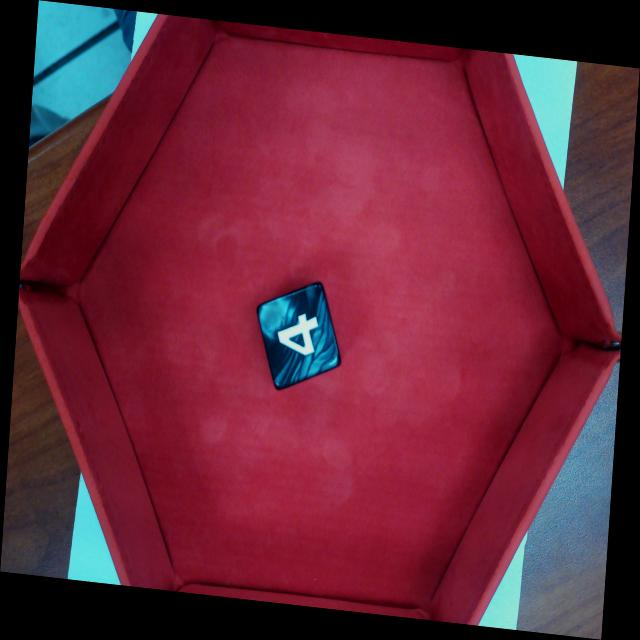dice: (255, 280, 343, 393)
